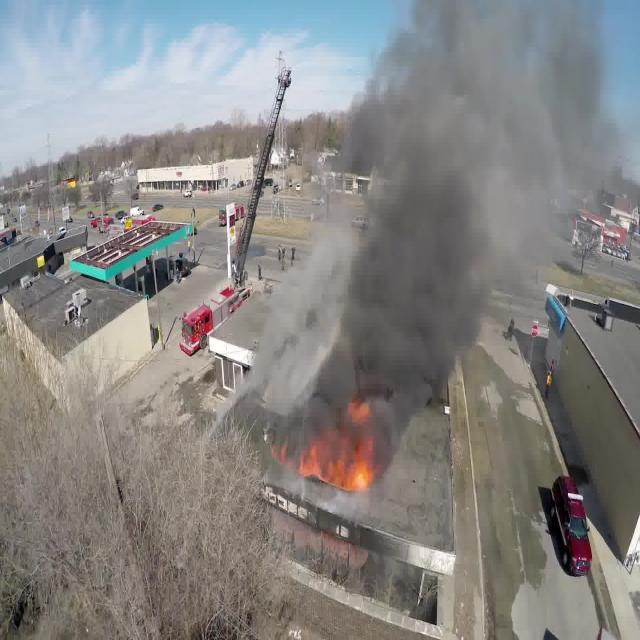Fire: (282, 441, 377, 493)
Smoke: (401, 18, 594, 206), (360, 212, 486, 348), (321, 357, 415, 428)
